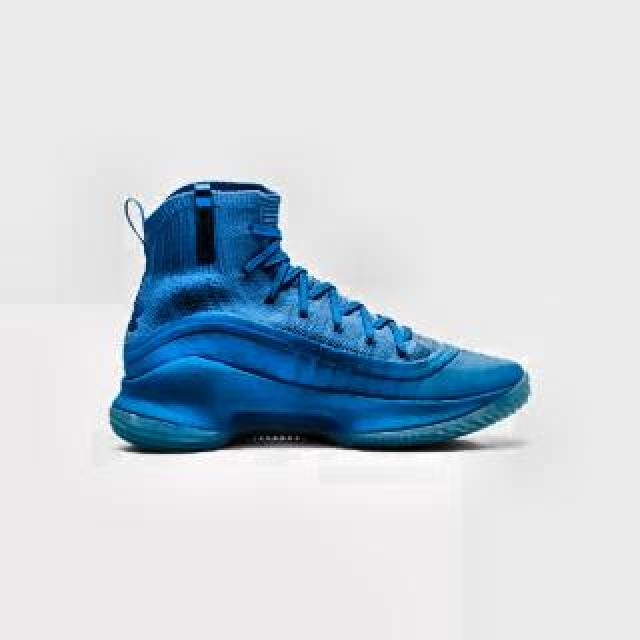shoe: (108, 179, 530, 453)
